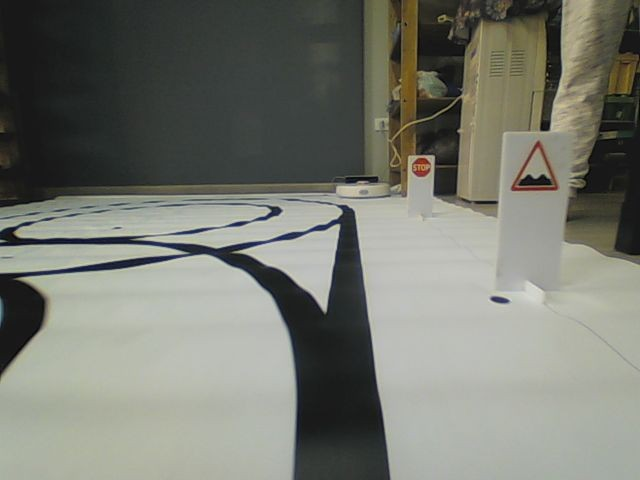Stop: (410, 156, 432, 177)
